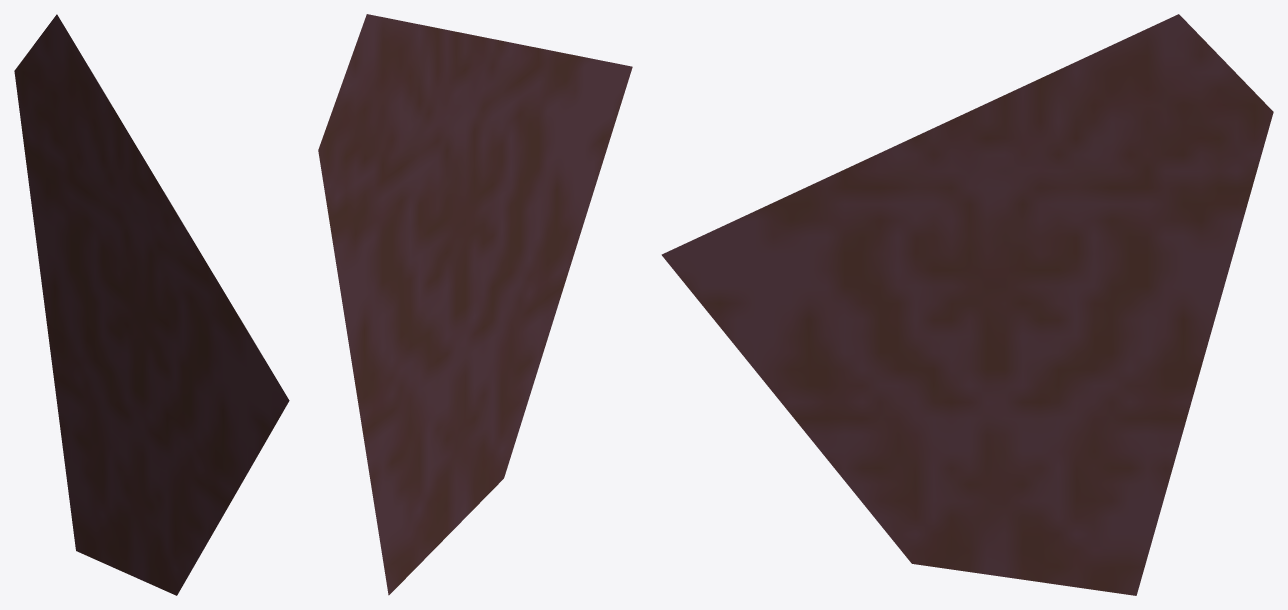
File: Past_BrokenWall9.fbx
3 renders of one model, left to right at view 1: azimuth 30°, elevation 25°; view 2: azimuth 150°, elevation 25°; view 3: azimuth 270°, elevation 25°, orthographic. The views are drawn at different scales.
Visible parts, largest first — view 1: polySurface401; view 2: polySurface401; view 3: polySurface401.
Part boxes in pixels (bbox=[...]): polySurface401: bbox=[14, 14, 289, 595]; polySurface401: bbox=[318, 14, 632, 595]; polySurface401: bbox=[661, 14, 1273, 595].
Size of the model in its own units: 0.000122 by 86.39 by 82.38.
Materials: 1 (1 with a texture image).
